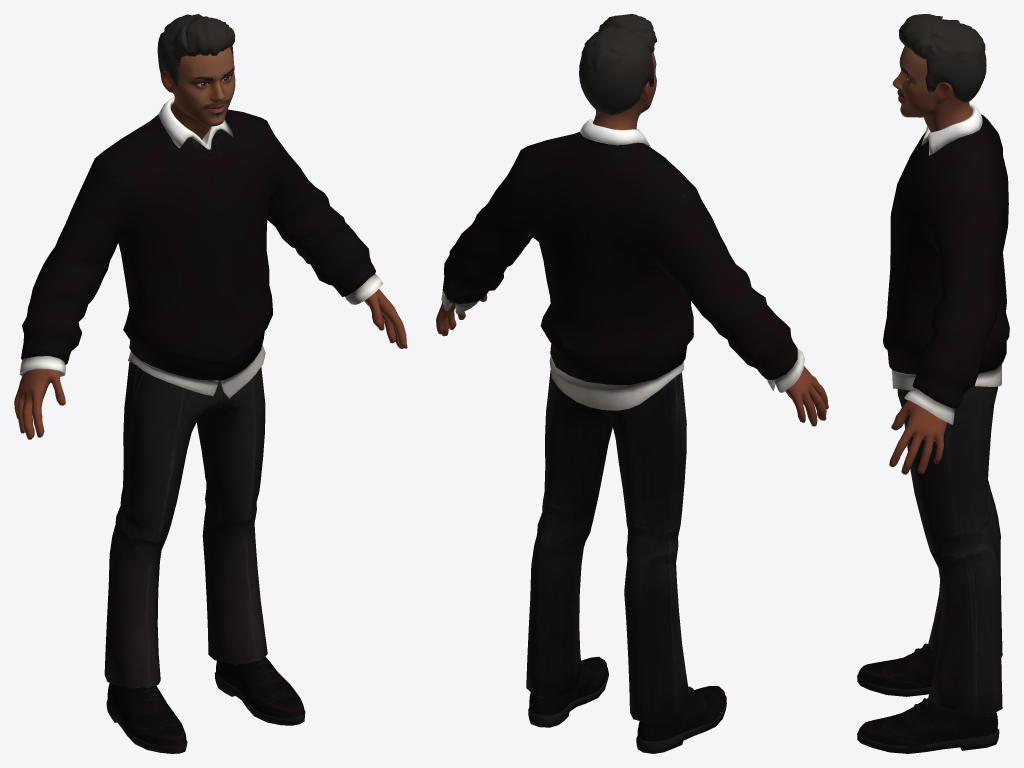
Rendered from Rohith_Avatar.gltf.
3 views of the same model, side by side, from view 1: azimuth 30°, elevation 25°; view 2: azimuth 150°, elevation 25°; view 3: azimuth 270°, elevation 25° (orthographic).
Visible parts, largest first — view 1: Wolf3D_Outfit_Top, Wolf3D_Outfit_Bottom, Wolf3D_Outfit_Footwear, Wolf3D_Head, Wolf3D_Body, Wolf3D_Hair; view 2: Wolf3D_Outfit_Top, Wolf3D_Outfit_Bottom, Wolf3D_Hair, Wolf3D_Outfit_Footwear, Wolf3D_Body, Wolf3D_Head; view 3: Wolf3D_Outfit_Top, Wolf3D_Outfit_Bottom, Wolf3D_Outfit_Footwear, Wolf3D_Hair, Wolf3D_Head, Wolf3D_Body.
Boxes of the visible parts, bbox=[...] form: Wolf3D_Outfit_Top: bbox=[19, 96, 383, 398]; Wolf3D_Outfit_Bottom: bbox=[104, 362, 267, 689]; Wolf3D_Outfit_Footwear: bbox=[106, 655, 305, 753]; Wolf3D_Head: bbox=[160, 47, 235, 139]; Wolf3D_Body: bbox=[14, 289, 407, 439]; Wolf3D_Hair: bbox=[157, 14, 235, 87]; Wolf3D_Outfit_Top: bbox=[441, 119, 804, 410]; Wolf3D_Outfit_Bottom: bbox=[526, 370, 689, 723]; Wolf3D_Hair: bbox=[579, 14, 656, 115]; Wolf3D_Outfit_Footwear: bbox=[528, 656, 726, 753]; Wolf3D_Body: bbox=[436, 294, 828, 426]; Wolf3D_Head: bbox=[593, 52, 656, 129]; Wolf3D_Outfit_Top: bbox=[883, 103, 1009, 424]; Wolf3D_Outfit_Bottom: bbox=[897, 386, 1002, 715]; Wolf3D_Outfit_Footwear: bbox=[857, 643, 999, 753]; Wolf3D_Hair: bbox=[899, 14, 986, 102]; Wolf3D_Head: bbox=[892, 46, 972, 132]; Wolf3D_Body: bbox=[889, 400, 946, 474].
Bounding box in the file's own units: 1.06 × 1.87 × 0.3697.
Materials: 9 (9 with a texture image).
